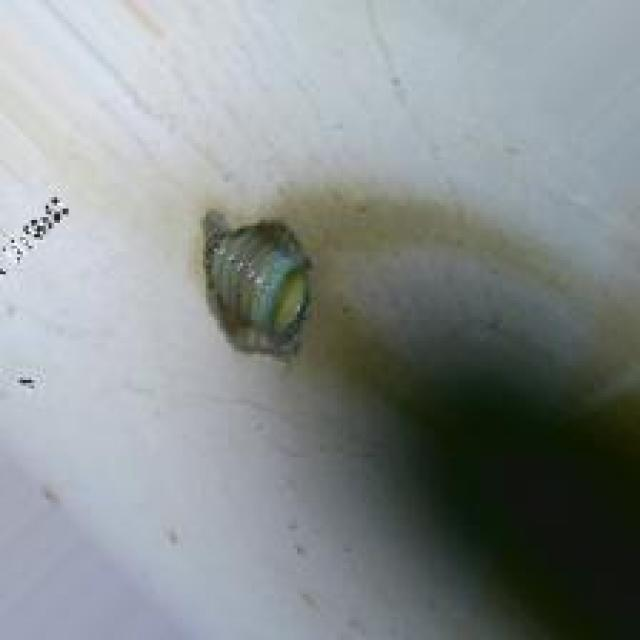ferrule: (189, 217, 317, 360)
